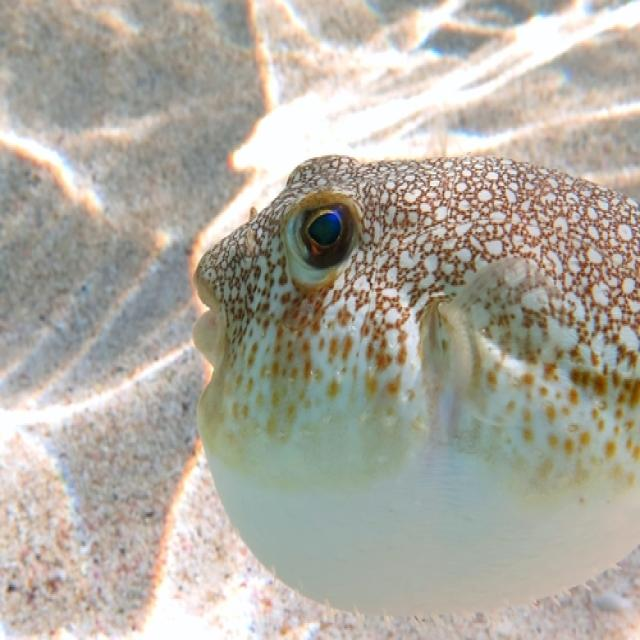Balik: (195, 158, 639, 614)
